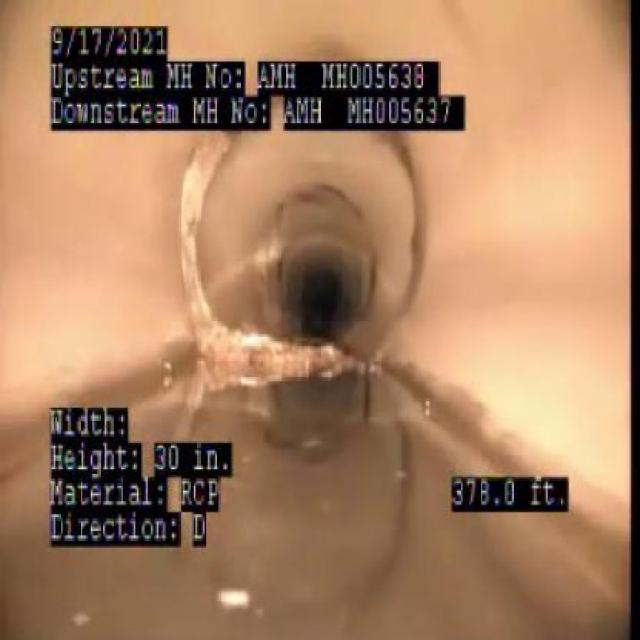Debris: (191, 302, 372, 398)
